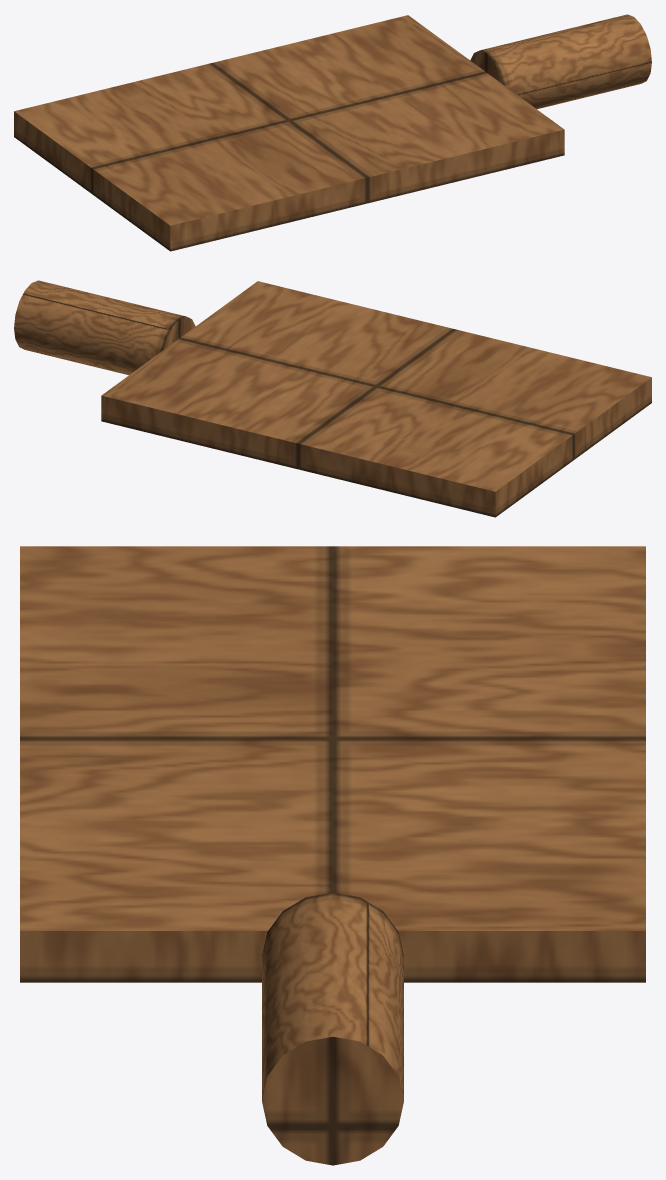
Rendered from Vagodeszka.obj.
The picture shows the model from 3 angles, top to bottom: view 1: azimuth 30°, elevation 25°; view 2: azimuth 150°, elevation 25°; view 3: azimuth 270°, elevation 25°; orthographic projection. The views are drawn at different scales.
Size of the model in its own units: 0.44 by 0.05 by 0.22.
1 material, 1 textured.
